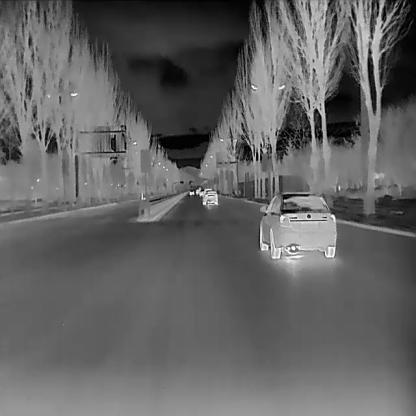car: (258, 189, 336, 259), (202, 189, 217, 205), (202, 186, 212, 198), (198, 187, 204, 197), (189, 189, 195, 195), (195, 189, 199, 194)
